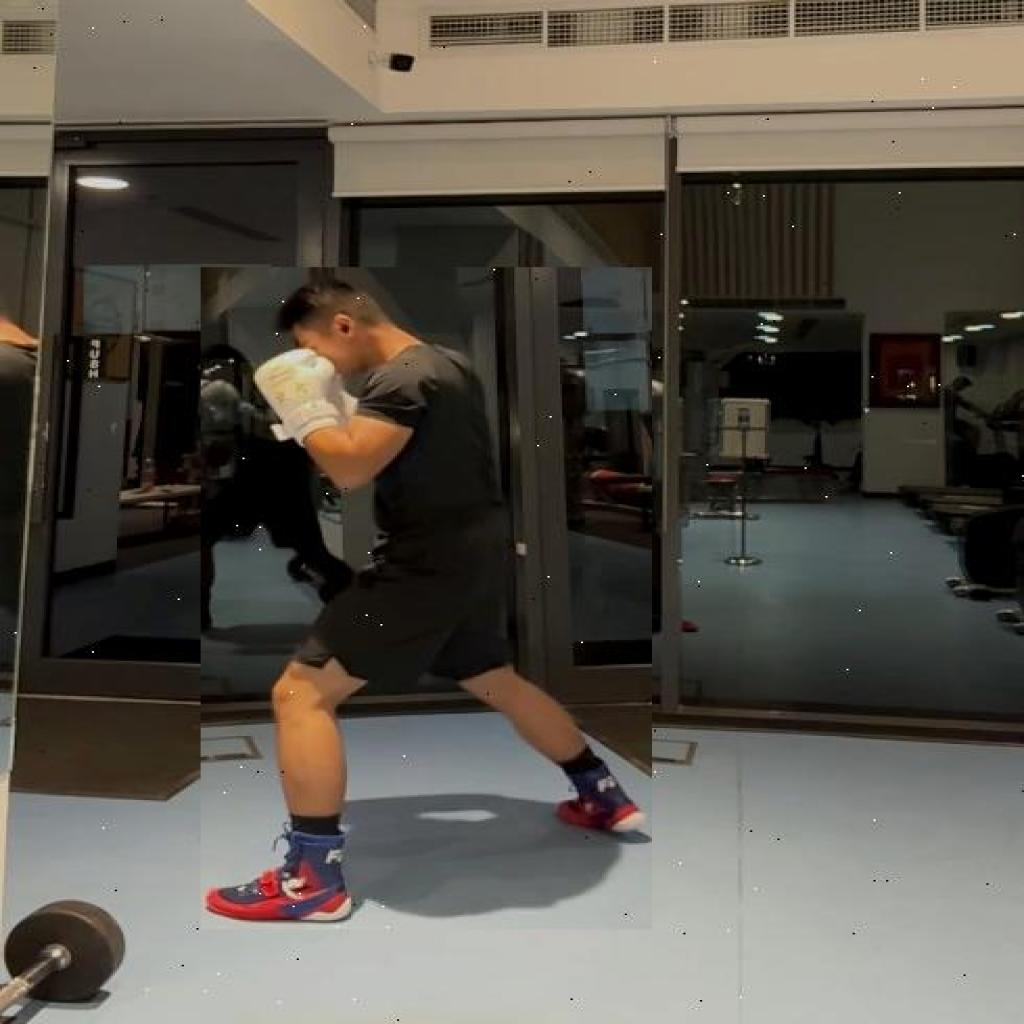no punch: (201, 267, 652, 930)
